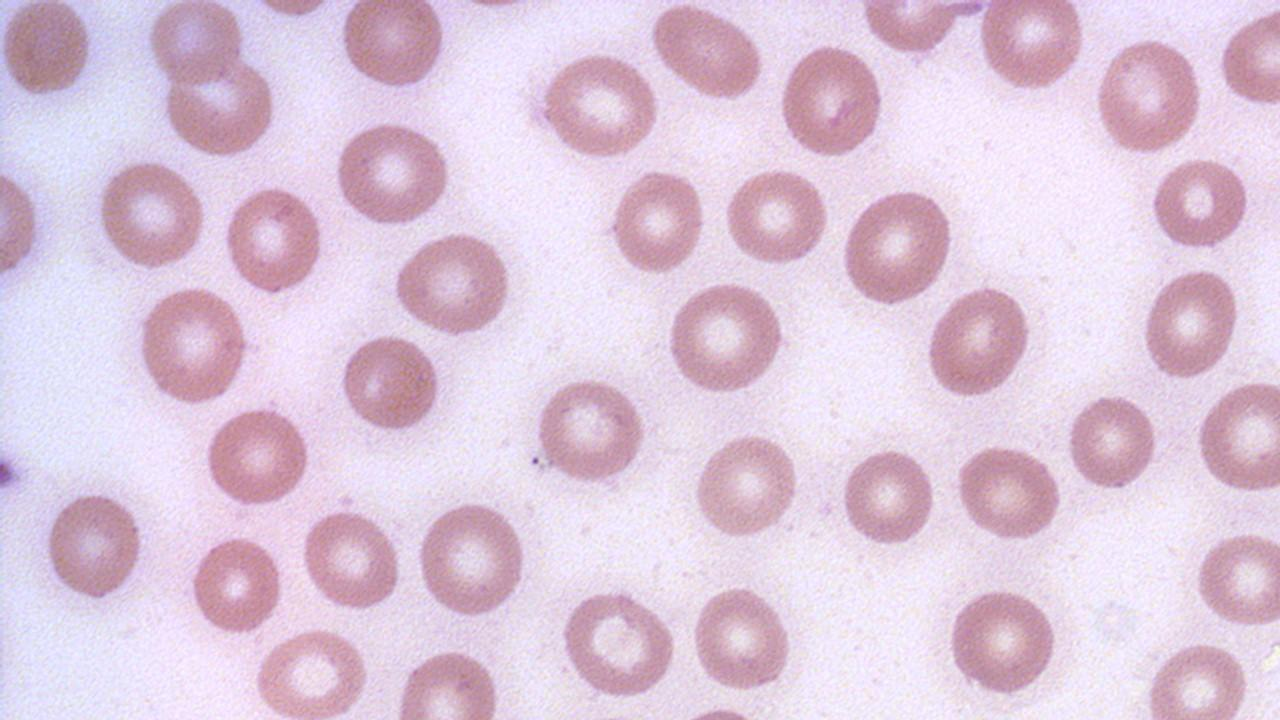RBC: (662, 280, 791, 396), (838, 185, 958, 309), (134, 284, 252, 408), (414, 495, 530, 621), (534, 49, 662, 163), (558, 586, 680, 702), (389, 229, 518, 338), (1092, 34, 1206, 156), (331, 118, 457, 228), (776, 40, 888, 161), (532, 374, 651, 486), (93, 158, 208, 273), (944, 584, 1062, 696), (924, 283, 1035, 401), (160, 51, 278, 160), (690, 428, 802, 542), (221, 182, 327, 299), (1137, 265, 1243, 381), (687, 582, 796, 694), (646, 3, 768, 102), (44, 486, 146, 604), (204, 403, 313, 510), (950, 442, 1064, 544), (251, 624, 376, 717), (720, 165, 831, 268), (606, 166, 708, 278), (300, 506, 404, 614), (336, 330, 444, 434), (835, 445, 940, 550), (186, 531, 286, 639), (974, 1, 1088, 95), (336, 1, 449, 93), (1148, 153, 1250, 253), (1193, 378, 1279, 496), (153, 28, 261, 121), (1063, 391, 1161, 493), (0, 0, 95, 103), (1191, 527, 1279, 630), (1140, 638, 1256, 716), (145, 1, 245, 88), (390, 647, 506, 717), (1218, 7, 1280, 109), (857, 0, 962, 58), (1, 156, 44, 296), (238, 0, 347, 23)
